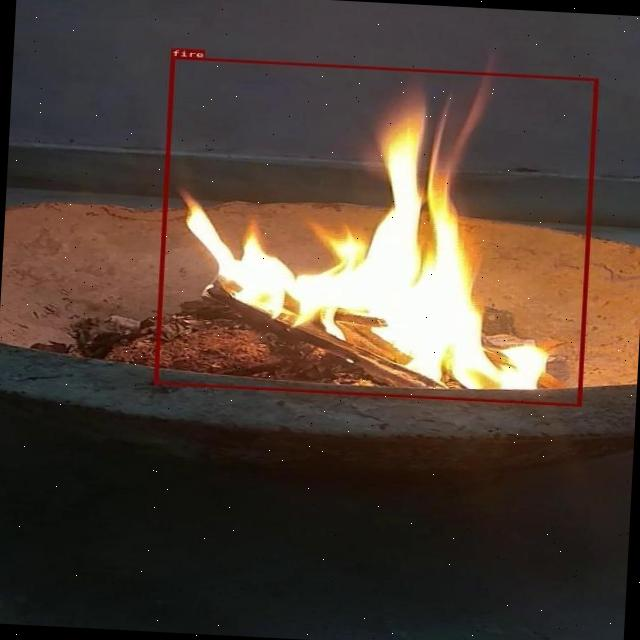fire: (153, 57, 597, 407)
